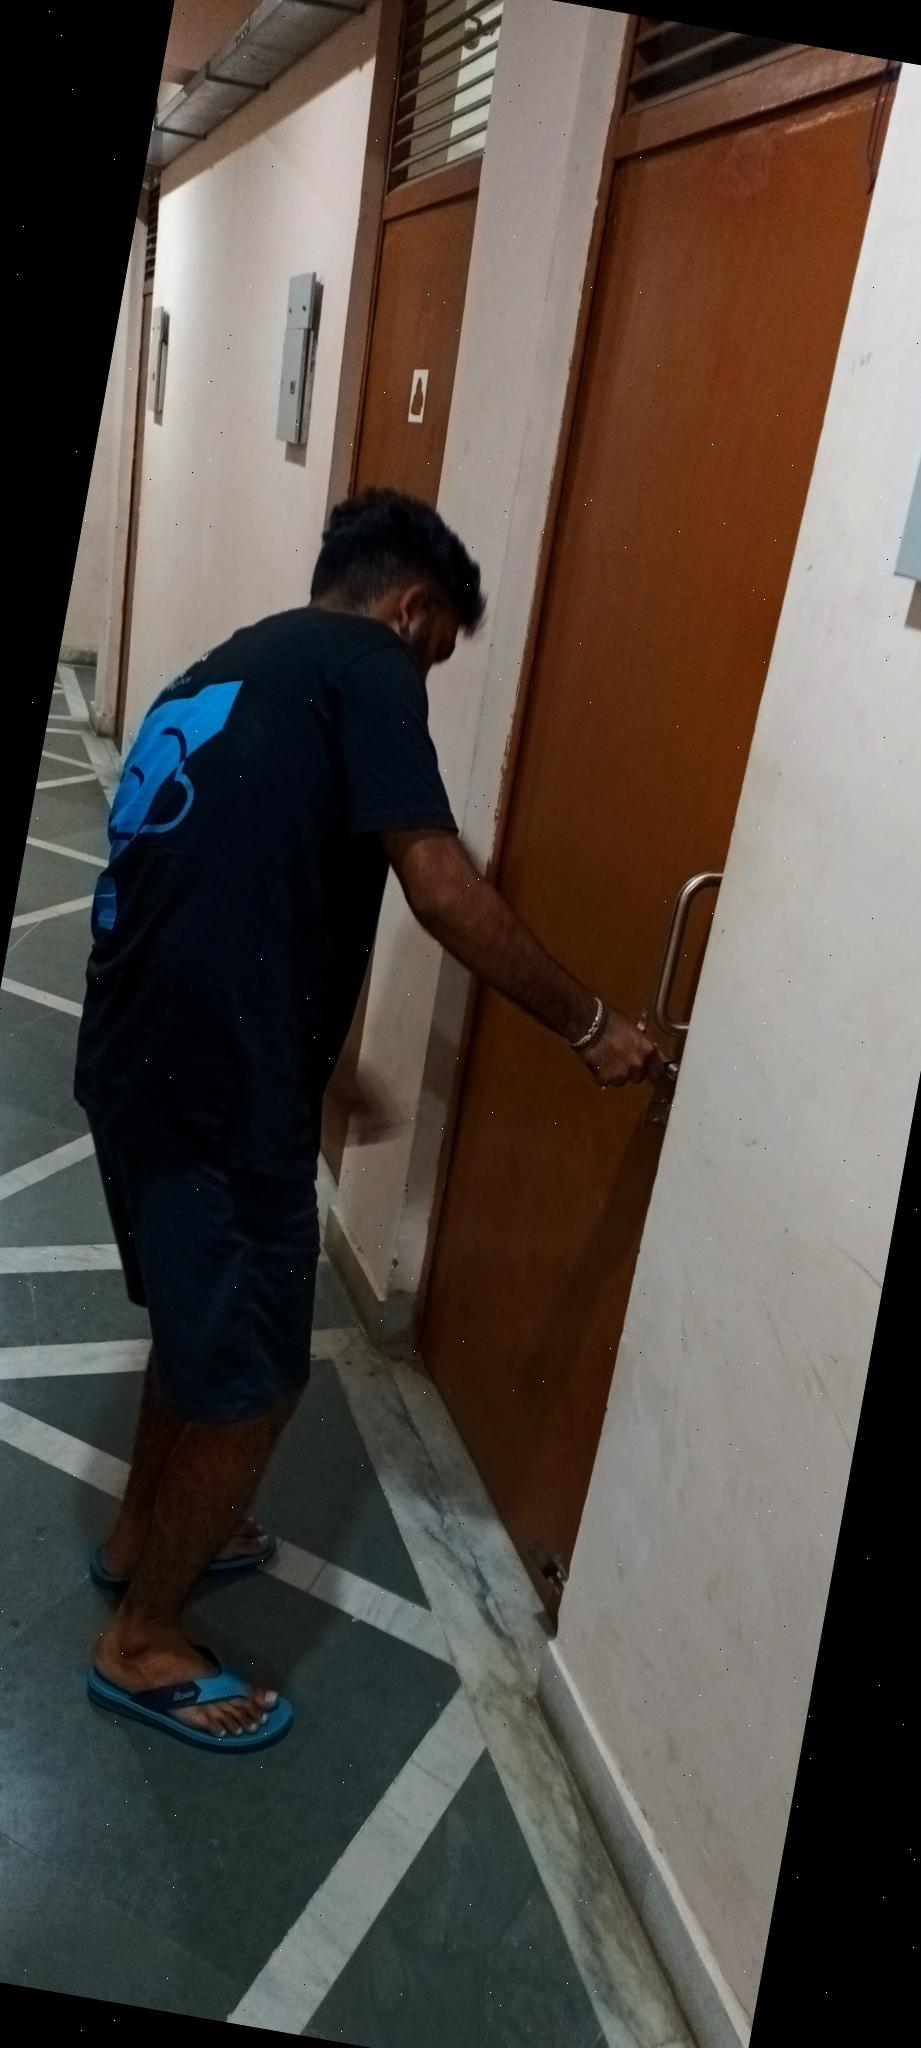suspicion: (0, 411, 814, 1903)
